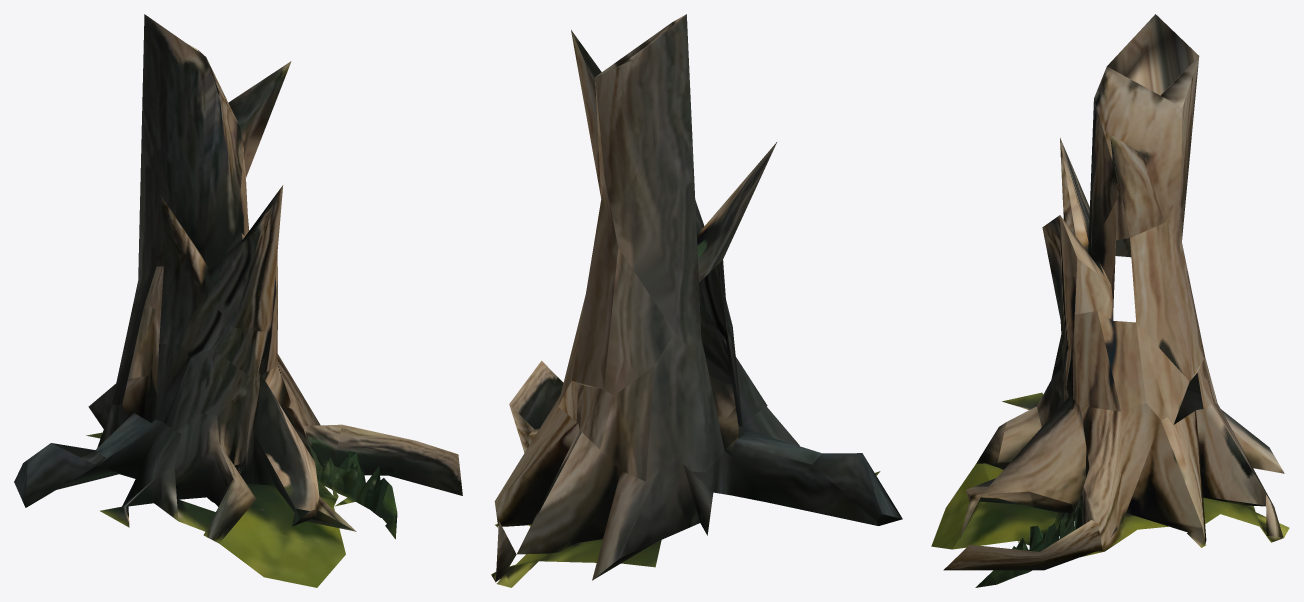
Rendered from terrain4_oak_0.glb.
3 renders of one model, left to right at view 1: azimuth 30°, elevation 25°; view 2: azimuth 150°, elevation 25°; view 3: azimuth 270°, elevation 25°, orthographic. The views are drawn at different scales.
Parts seen in each view (by area): view 1: oak_0; view 2: oak_0; view 3: oak_0.
Boxes of the visible parts, <box> form: oak_0: <box>14,14,462,587</box>; oak_0: <box>491,14,902,587</box>; oak_0: <box>931,14,1289,587</box>.
Size of the model in its own units: 34.04 by 43.94 by 28.36.
Materials: 1 (1 with a texture image).
